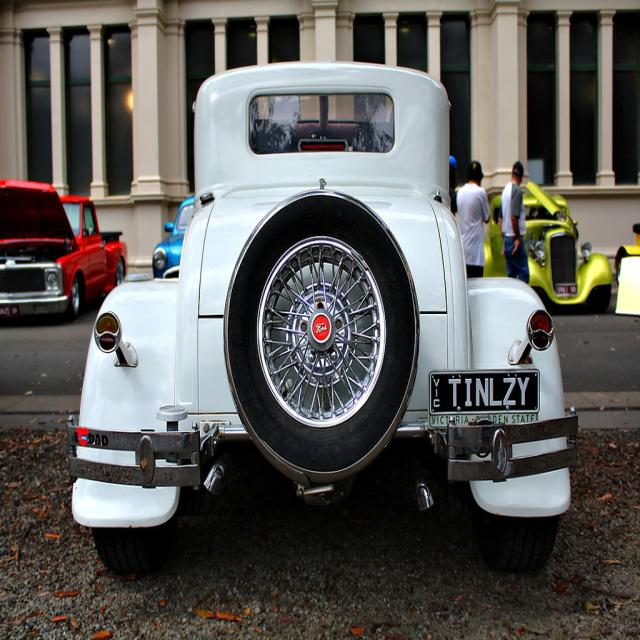car: (87, 62, 565, 564), (0, 176, 128, 314), (476, 181, 614, 308), (152, 190, 195, 280)
